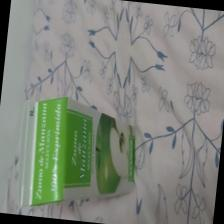Kertas: (17, 98, 134, 206)
